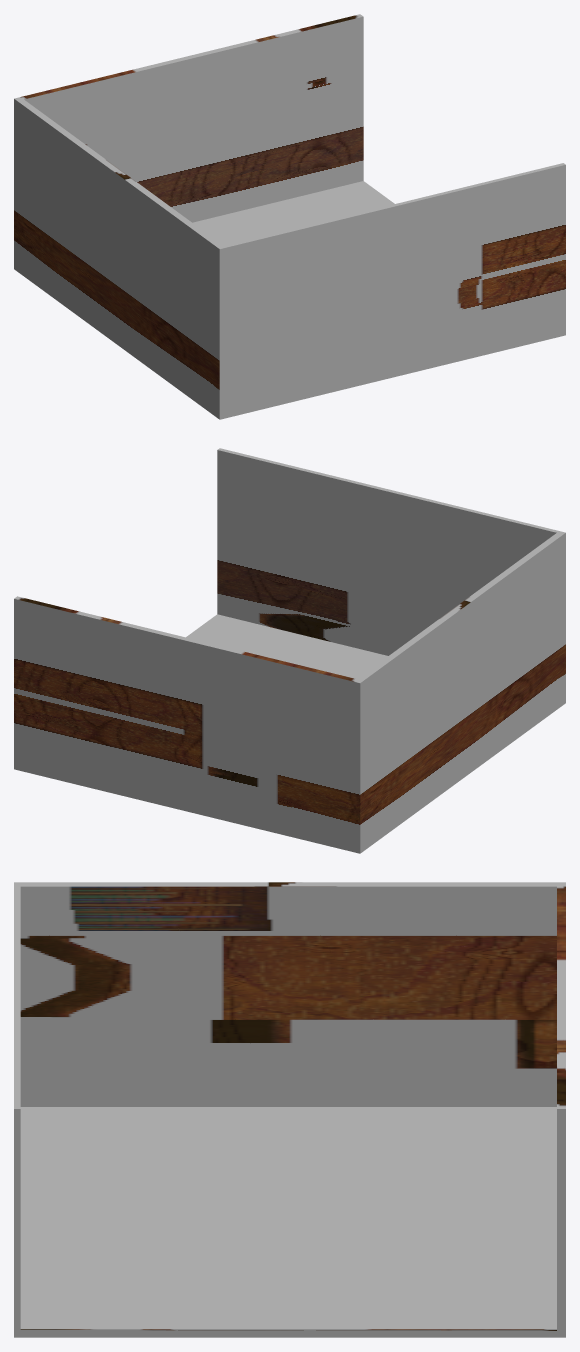
The model's file is M_Em_Room.fbx.
3 renders of one model, top to bottom at view 1: azimuth 30°, elevation 25°; view 2: azimuth 150°, elevation 25°; view 3: azimuth 270°, elevation 25°, orthographic. The views are drawn at different scales.
Parts seen in each view (by area): view 1: 立方体.068; view 2: 立方体.068; view 3: 立方体.068.
Part boxes in pixels (<box>): 立方体.068: <box>14,14,565,419</box>; 立方体.068: <box>14,448,565,853</box>; 立方体.068: <box>14,882,565,1337</box>.
Bounding box in the file's own units: 894 × 421 × 921.
